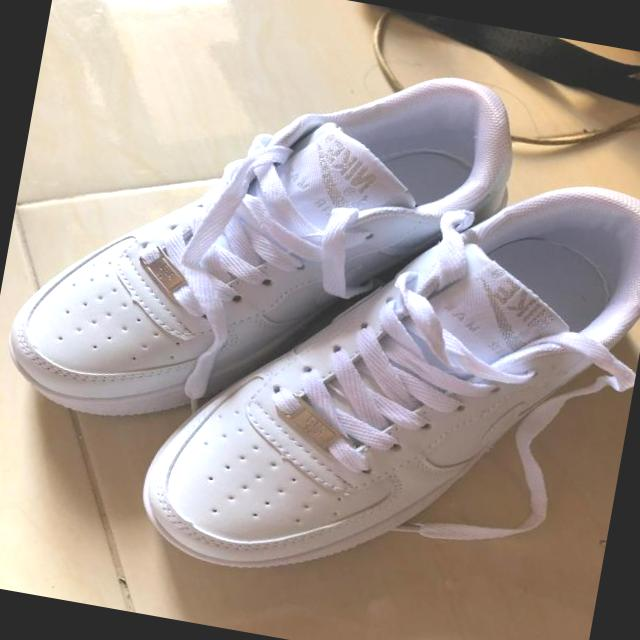nike_fake_airforce: (111, 114, 640, 631), (0, 8, 525, 479)
